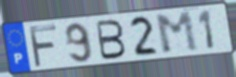1: (196, 9, 217, 52)
2: (129, 15, 161, 59)
9: (64, 22, 94, 64)
B: (95, 19, 128, 62)
F: (27, 24, 59, 70)
M: (153, 10, 202, 56)
